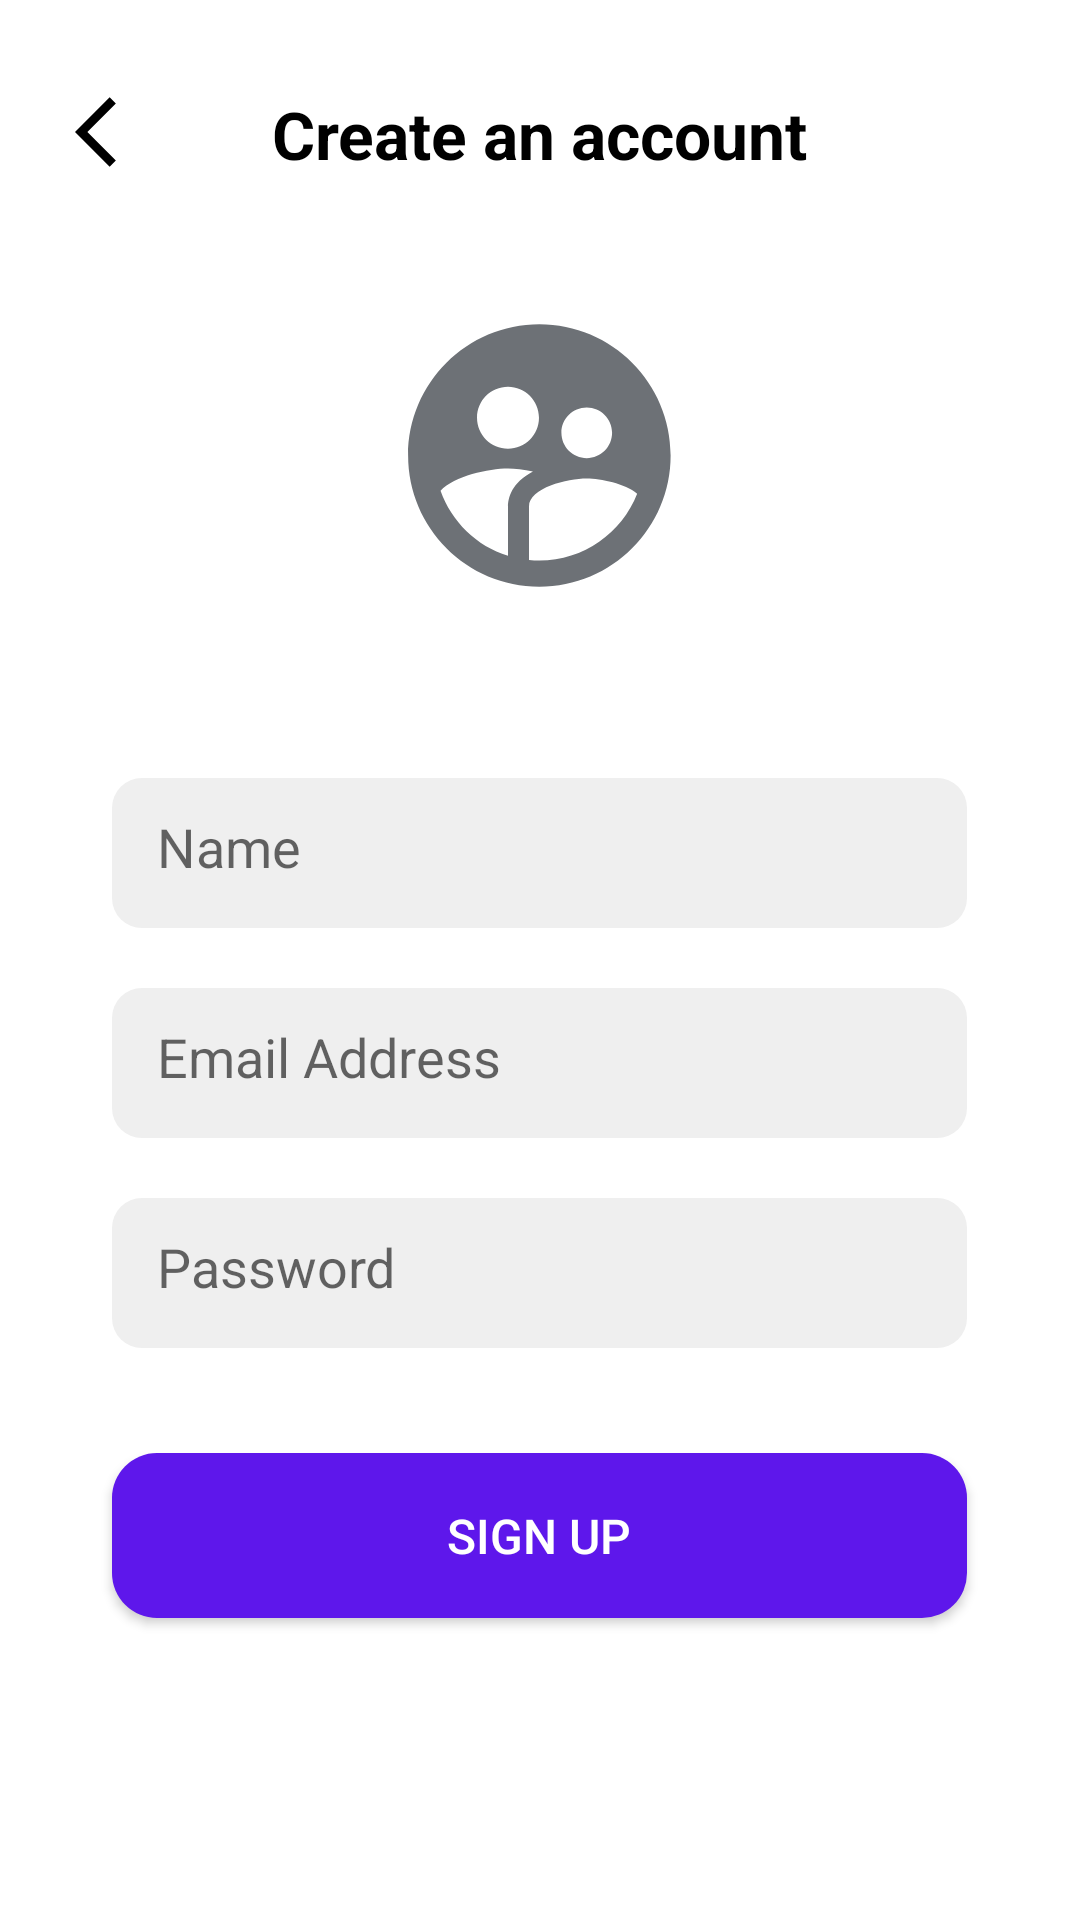

Screen size 1080px x 1920px. Icon name, then its box in pixels as BBox(x1, y1, x2, y2):
back: BBox(75, 97, 116, 167)
user: BBox(408, 324, 671, 587)
